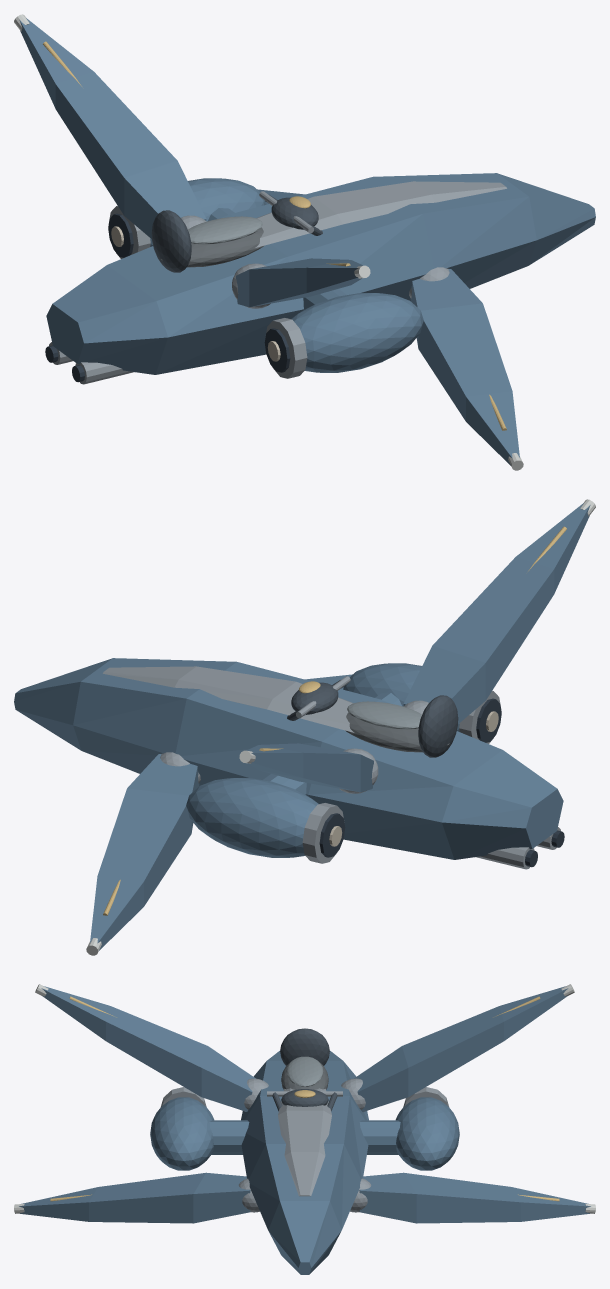
The model's file is busan_pulse_blue_active.glb.
3 views of the same model, one above another, from view 1: azimuth 30°, elevation 25°; view 2: azimuth 150°, elevation 25°; view 3: azimuth 270°, elevation 25° (orthographic). The views are drawn at different scales.
Parts seen in each view (by area): view 1: center_hull_0, rear_wings_7, front_wings_10, side_turbine_housing_12, central_panel_1, seat_back_3, turbine_rim_13, saddle_pad_18, saddle_2, turbine_dark_inner_14, instrument_cluster_19, wing_hinges_6 (+1 smaller); view 2: center_hull_0, rear_wings_7, front_wings_10, side_turbine_housing_12, central_panel_1, seat_back_3, turbine_rim_13, saddle_pad_18, saddle_2, turbine_dark_inner_14, instrument_cluster_19, wing_hinges_6 (+1 smaller); view 3: front_wings_10, rear_wings_7, center_hull_0, side_turbine_housing_12, central_panel_1, pod_arm_11, wing_hinges_6, seat_back_3, saddle_pad_18, turbine_rim_13, instrument_cluster_19, saddle_2 (+2 smaller).
Part boxes in pixels (x1,y1,x2,y2): center_hull_0: [46, 173, 595, 374]; rear_wings_7: [19, 18, 363, 307]; front_wings_10: [257, 189, 519, 465]; side_turbine_housing_12: [150, 178, 423, 372]; central_panel_1: [255, 181, 506, 247]; seat_back_3: [151, 210, 191, 272]; turbine_rim_13: [108, 206, 307, 378]; saddle_pad_18: [188, 216, 262, 244]; saddle_2: [160, 227, 264, 267]; turbine_dark_inner_14: [108, 213, 290, 372]; instrument_cluster_19: [271, 197, 318, 229]; wing_hinges_6: [181, 215, 449, 308]; center_hull_0: [14, 658, 563, 859]; rear_wings_7: [246, 503, 590, 792]; front_wings_10: [90, 674, 352, 950]; side_turbine_housing_12: [186, 663, 459, 857]; central_panel_1: [103, 666, 354, 732]; seat_back_3: [418, 695, 458, 757]; turbine_rim_13: [302, 691, 501, 863]; saddle_pad_18: [347, 701, 421, 729]; saddle_2: [345, 712, 449, 752]; turbine_dark_inner_14: [319, 698, 501, 857]; instrument_cluster_19: [291, 682, 338, 714]; wing_hinges_6: [160, 700, 428, 793]; front_wings_10: [19, 1172, 590, 1223]; rear_wings_7: [41, 986, 568, 1111]; center_hull_0: [241, 1050, 368, 1274]; side_turbine_housing_12: [150, 1097, 459, 1170]; central_panel_1: [278, 1088, 331, 1196]; pod_arm_11: [209, 1120, 400, 1154]; wing_hinges_6: [238, 1078, 371, 1212]; seat_back_3: [280, 1028, 329, 1065]; saddle_pad_18: [286, 1056, 323, 1086]; turbine_rim_13: [161, 1087, 448, 1107]; instrument_cluster_19: [281, 1089, 328, 1106]; saddle_2: [281, 1062, 328, 1089].
Bounding box in the file's own units: 4.37 × 1.8 × 5.37.
